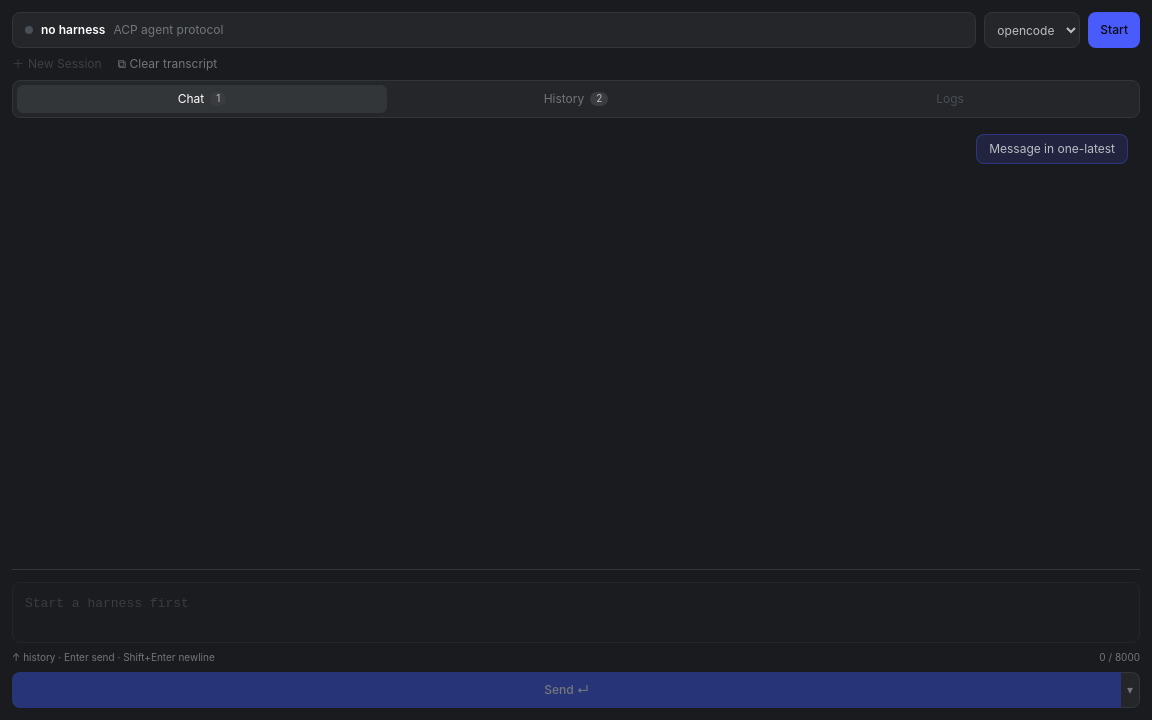
Test: clearing the displayed agent transcript › keeps the transcript and surfaces a failed clear
The image size is (1152, 720).
Click the button "⧉ Clear transcript".
click(167, 64)  # box [118, 56, 217, 72]
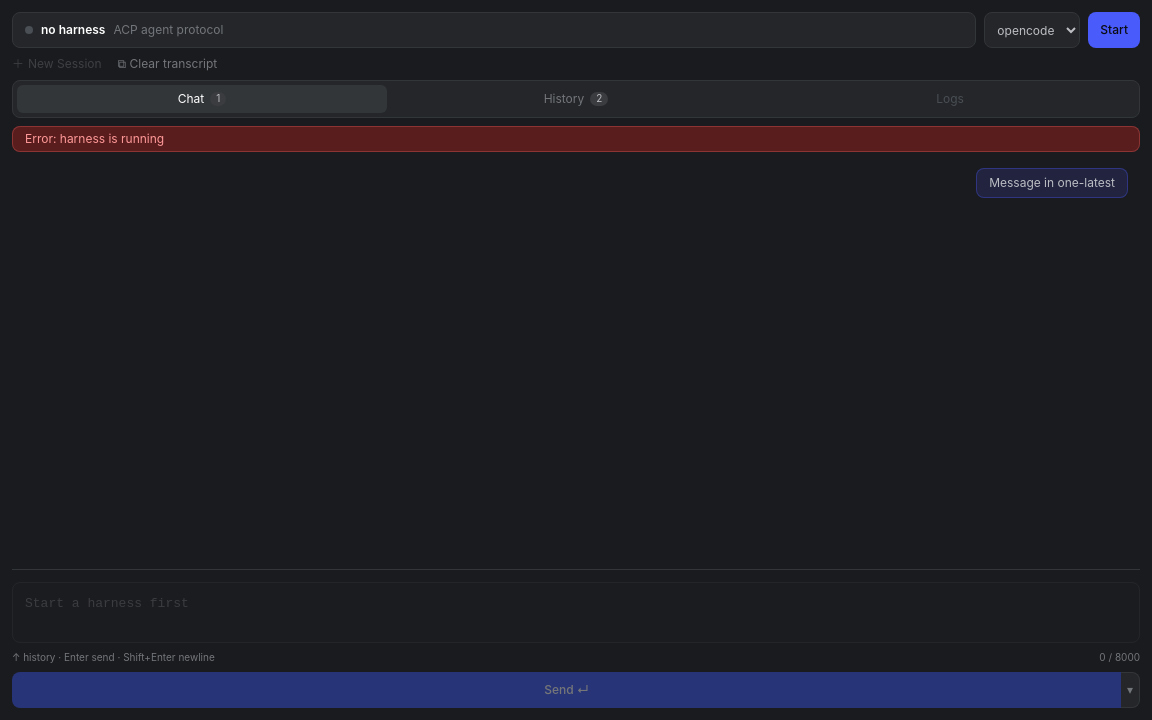
Expected: the text "Message in one-latest" is shown, [976, 168, 1128, 198]
Result: the text "harness is running" is shown at [25, 131, 164, 146]
